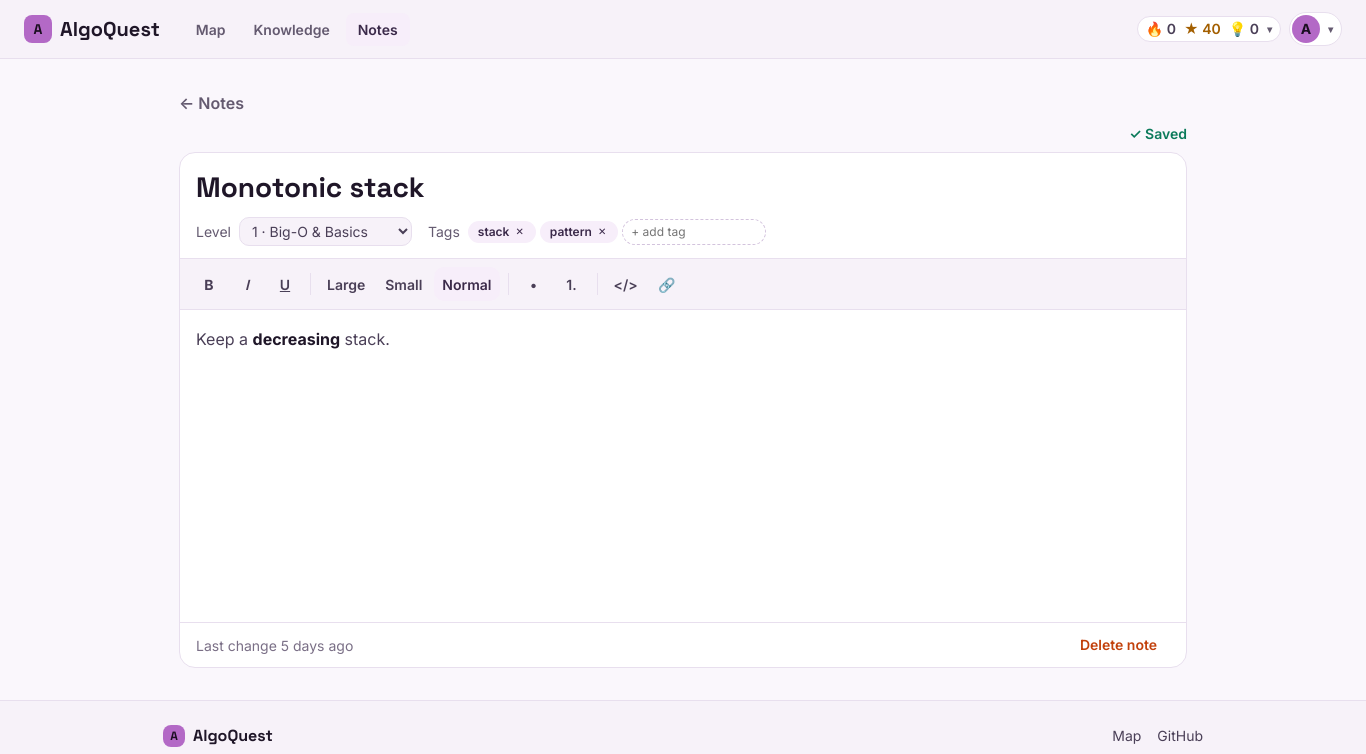
notes › deletes a note after asking
Click the button "Delete note": (1118, 645) 1067,631 -> 1170,659
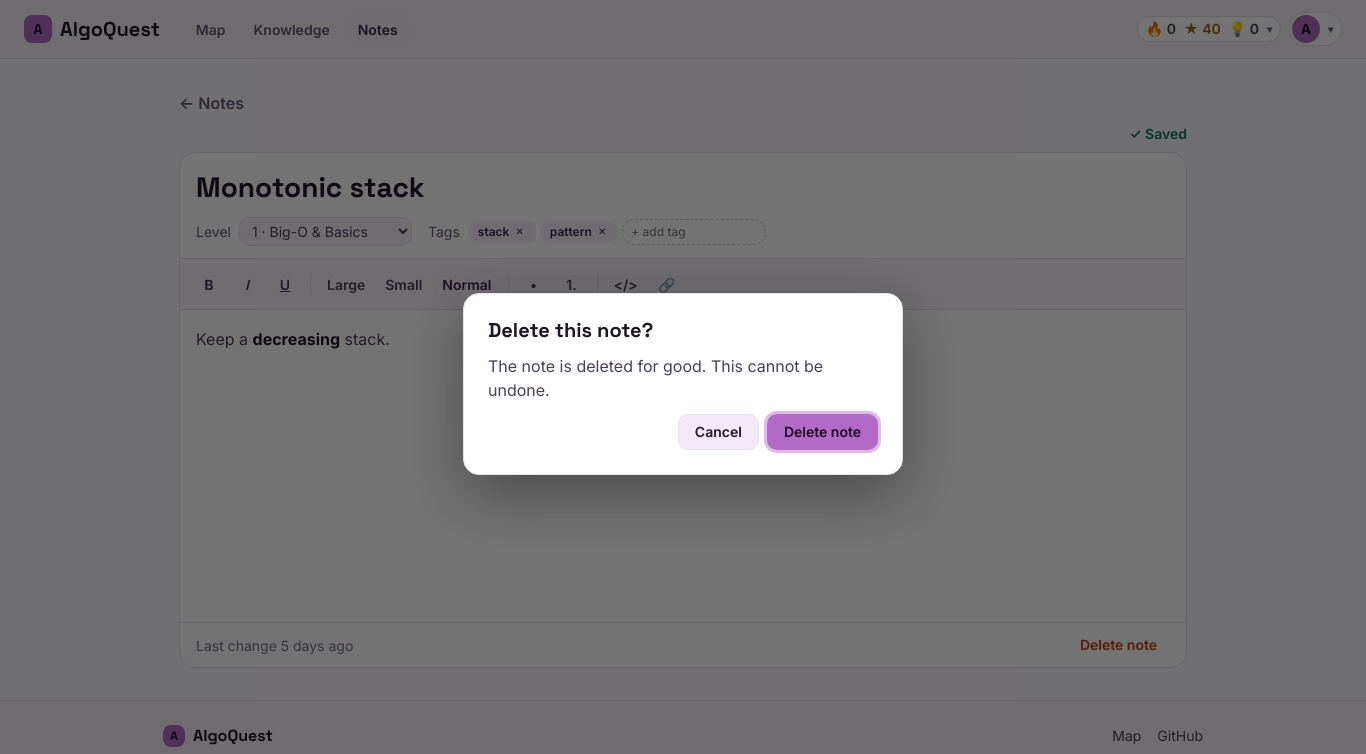
Click the button "Delete note": (822, 432) 767,414 -> 878,450
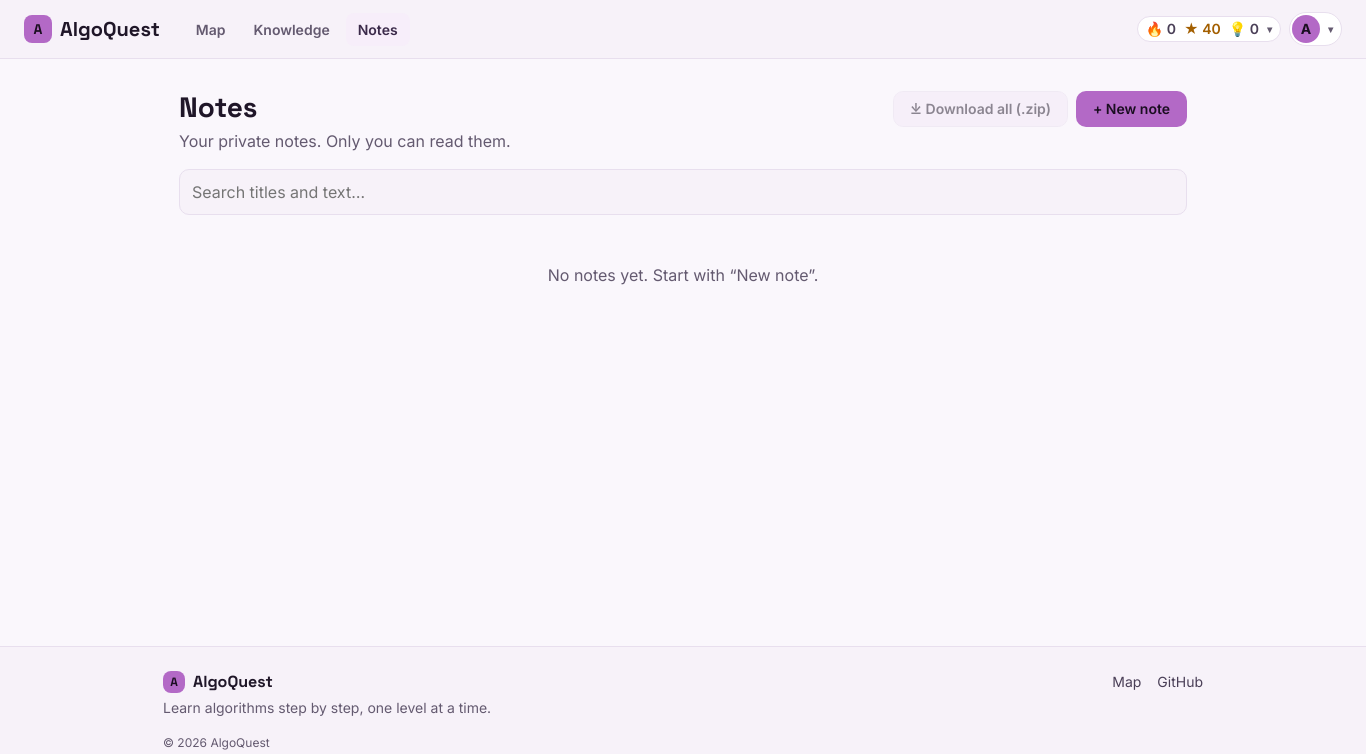
Result: the text "No notes yet. Start with “New note”." is shown at 548,265 -> 818,285
